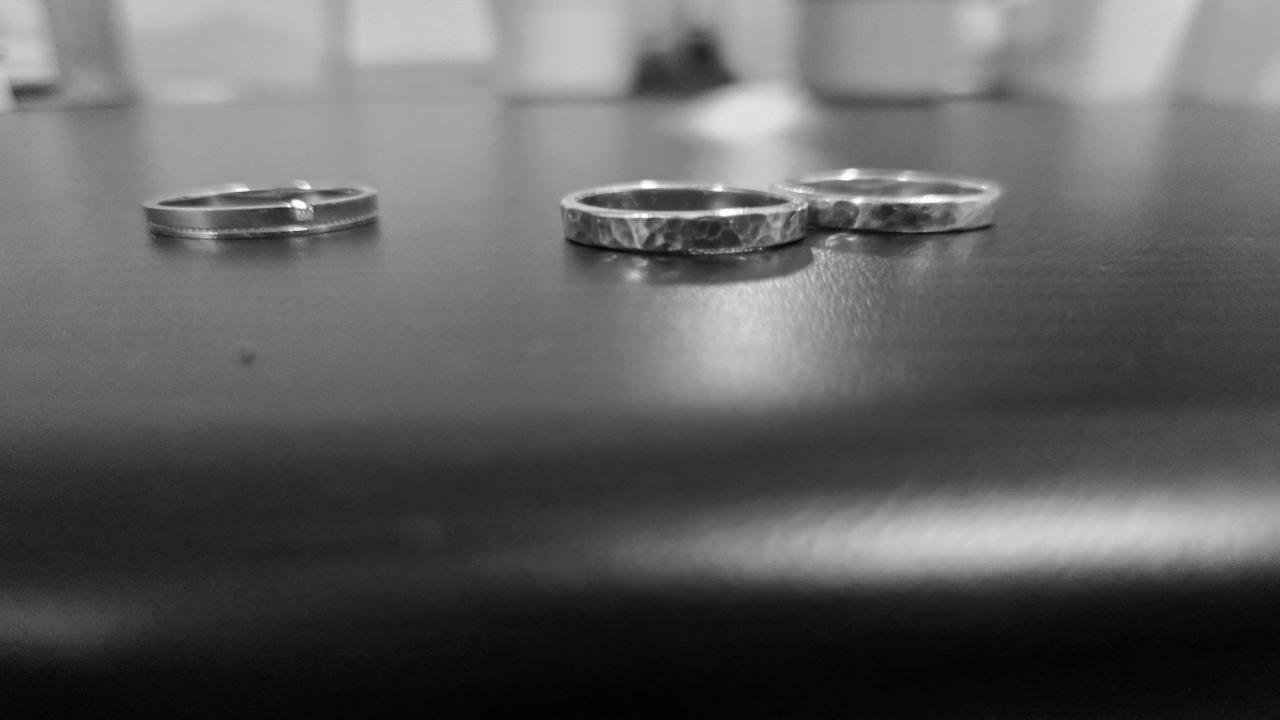ring: (562, 180, 812, 255), (764, 166, 1004, 234), (138, 181, 380, 243)
